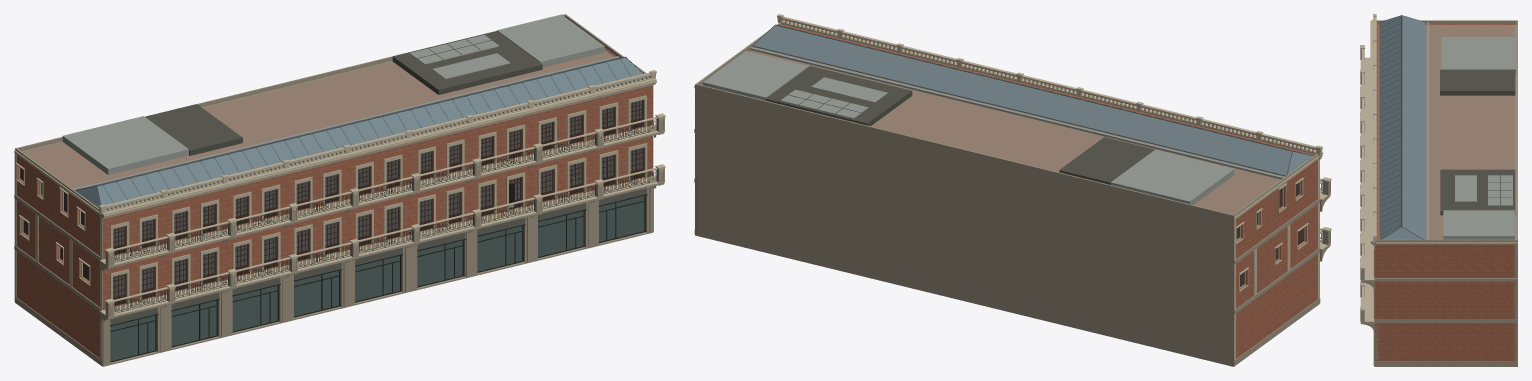
File: hongkou-gongyi-fang-975-987-sichuan-road-lod.glb
3 renders of one model, left to right at view 1: azimuth 30°, elevation 25°; view 2: azimuth 150°, elevation 25°; view 3: azimuth 270°, elevation 25°, orthographic. The views are drawn at different scales.
Parts seen in each view (by area): view 1: 公益坊四川北路975–987号商住楼（今潮8弄3号楼）; view 2: 公益坊四川北路975–987号商住楼（今潮8弄3号楼）; view 3: 公益坊四川北路975–987号商住楼（今潮8弄3号楼）.
Boxes of the visible parts, box(x1,y1,x2,y2) form: 公益坊四川北路975–987号商住楼（今潮8弄3号楼）: box(14, 14, 665, 366); 公益坊四川北路975–987号商住楼（今潮8弄3号楼）: box(694, 14, 1331, 366); 公益坊四川北路975–987号商住楼（今潮8弄3号楼）: box(1360, 14, 1517, 366).
Size of the model in its own units: 47.11 by 13.42 by 14.11.
Materials: 18 (1 with a texture image).
